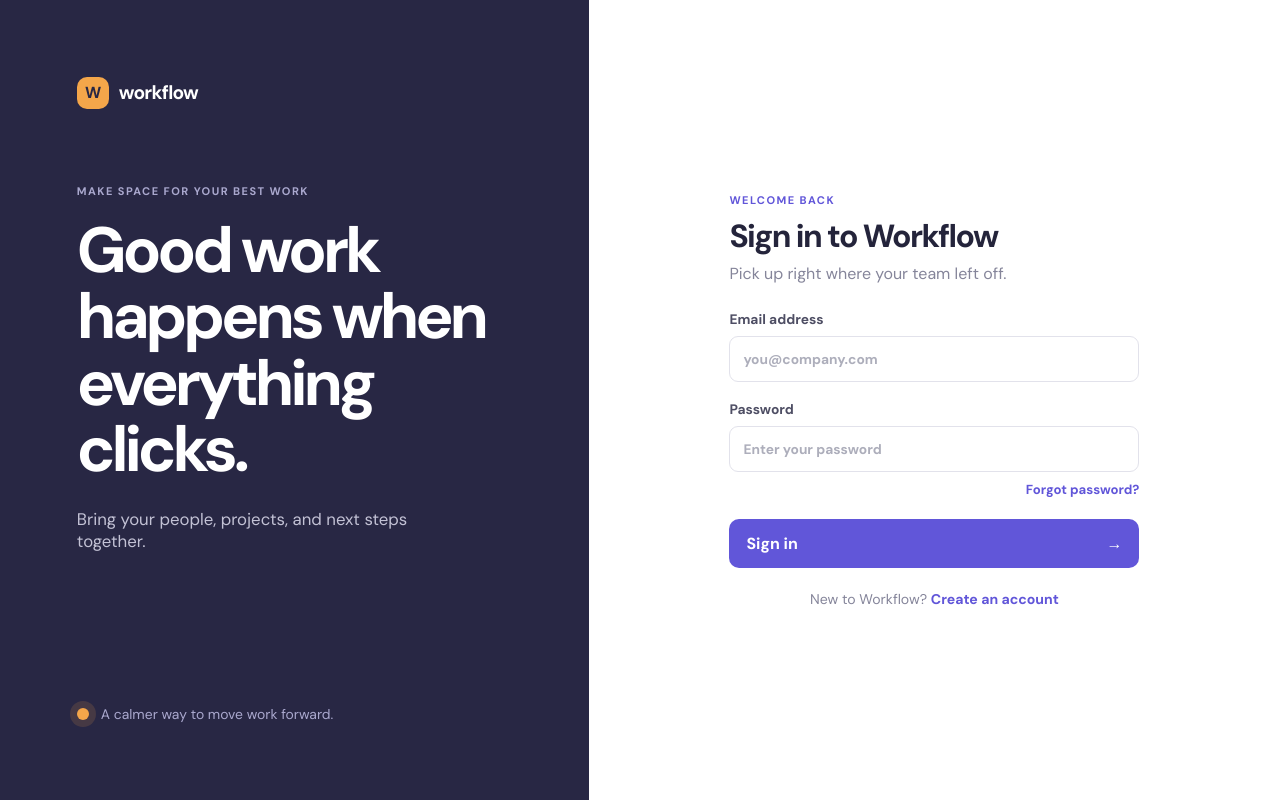
AuthenticationPanel › shows authentication errors returned by the request
Type "riley@example.test" into the field labelled "Email address" at (934,358), box [729,336,1139,382]
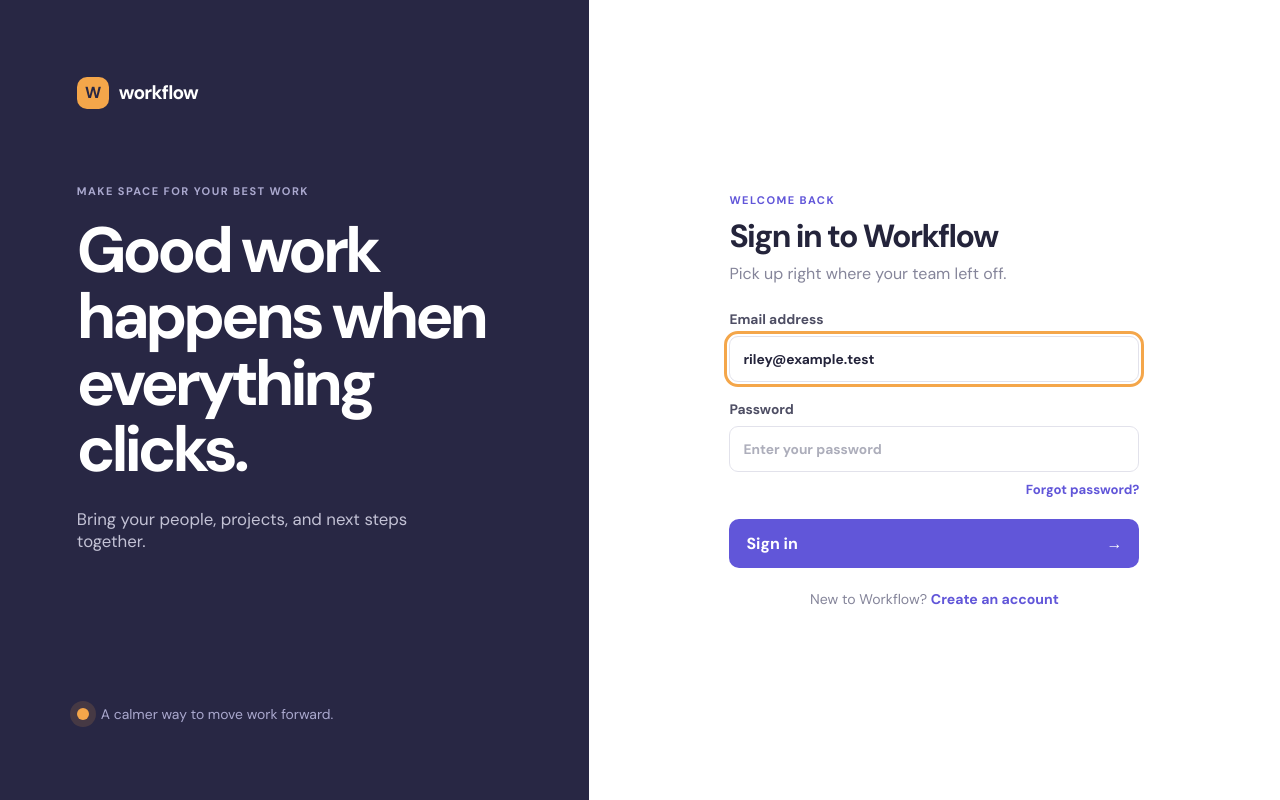
Type "wrong-password" into the password field labelled "Password" at (934,448), box [729,426,1139,472]
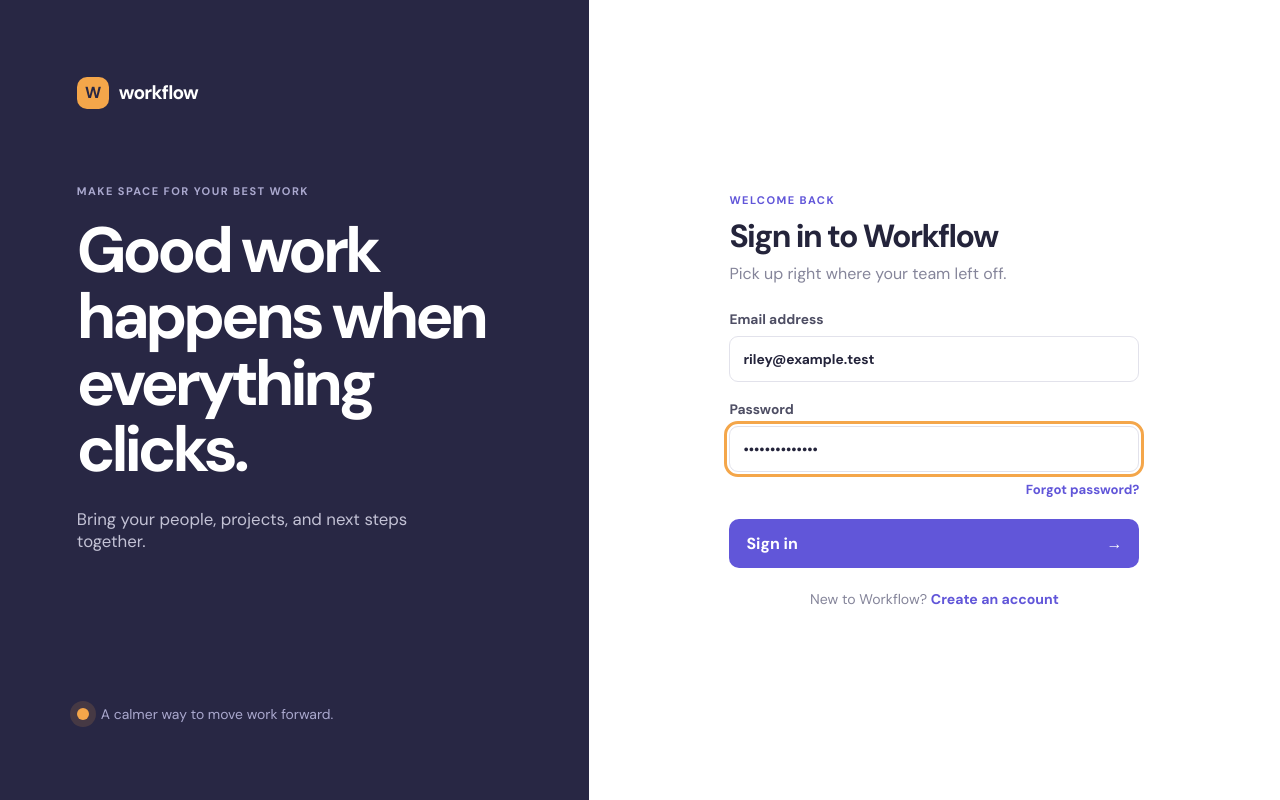
Click the button "Sign in →" at (772,543), box [729,518,1139,568]
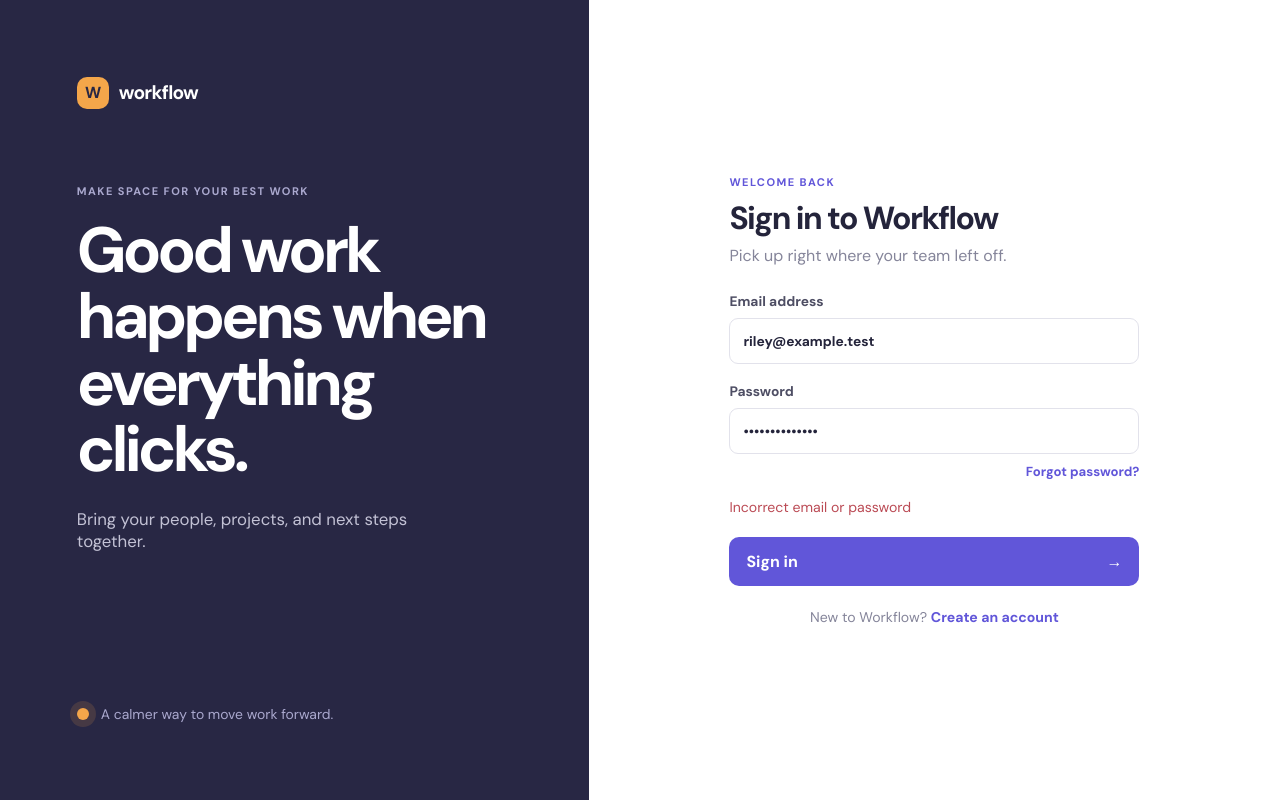
expect the message reads "Incorrect email or password": met, box [729,498,911,516]
